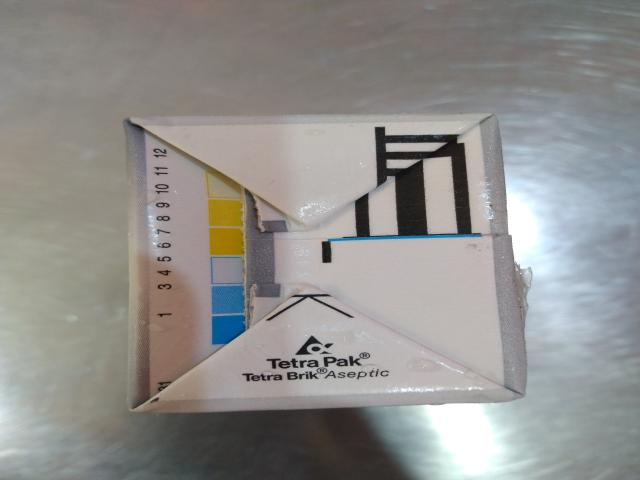drink_box: (106, 94, 591, 427)
